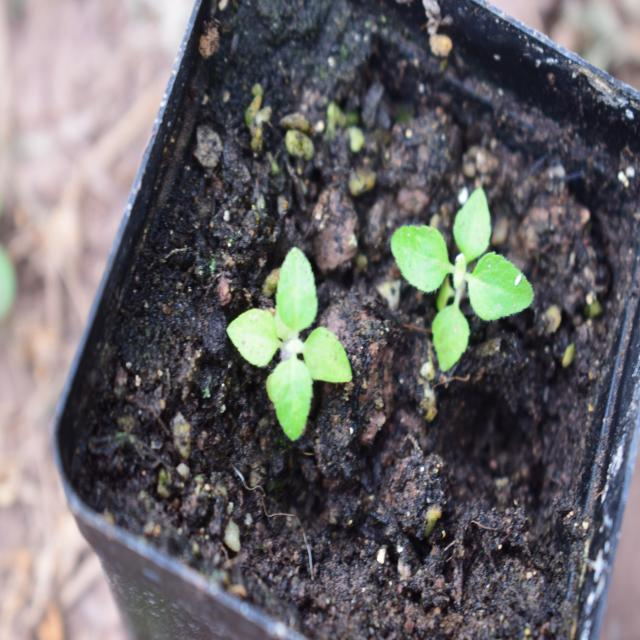billygoat_weed: (388, 203, 536, 384), (224, 248, 356, 439)
